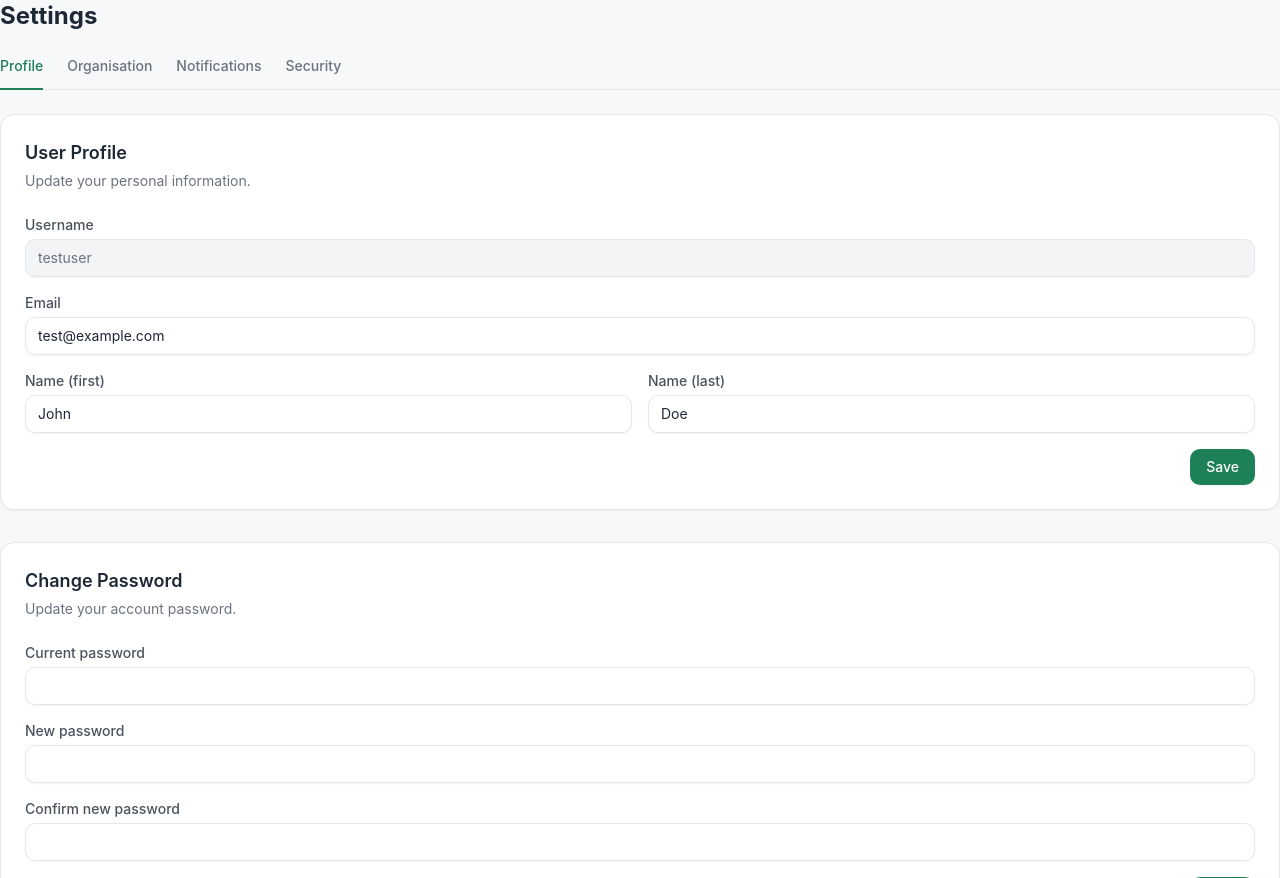
Test: Settings page › switches to Notifications tab
The width and height of the screenshot is (1280, 878).
Expected: the button "Profile" is shown, [0,56,43,90]
Step 1. Click the button "Notifications" → coordinates (219, 73), box [176,56,261,90]
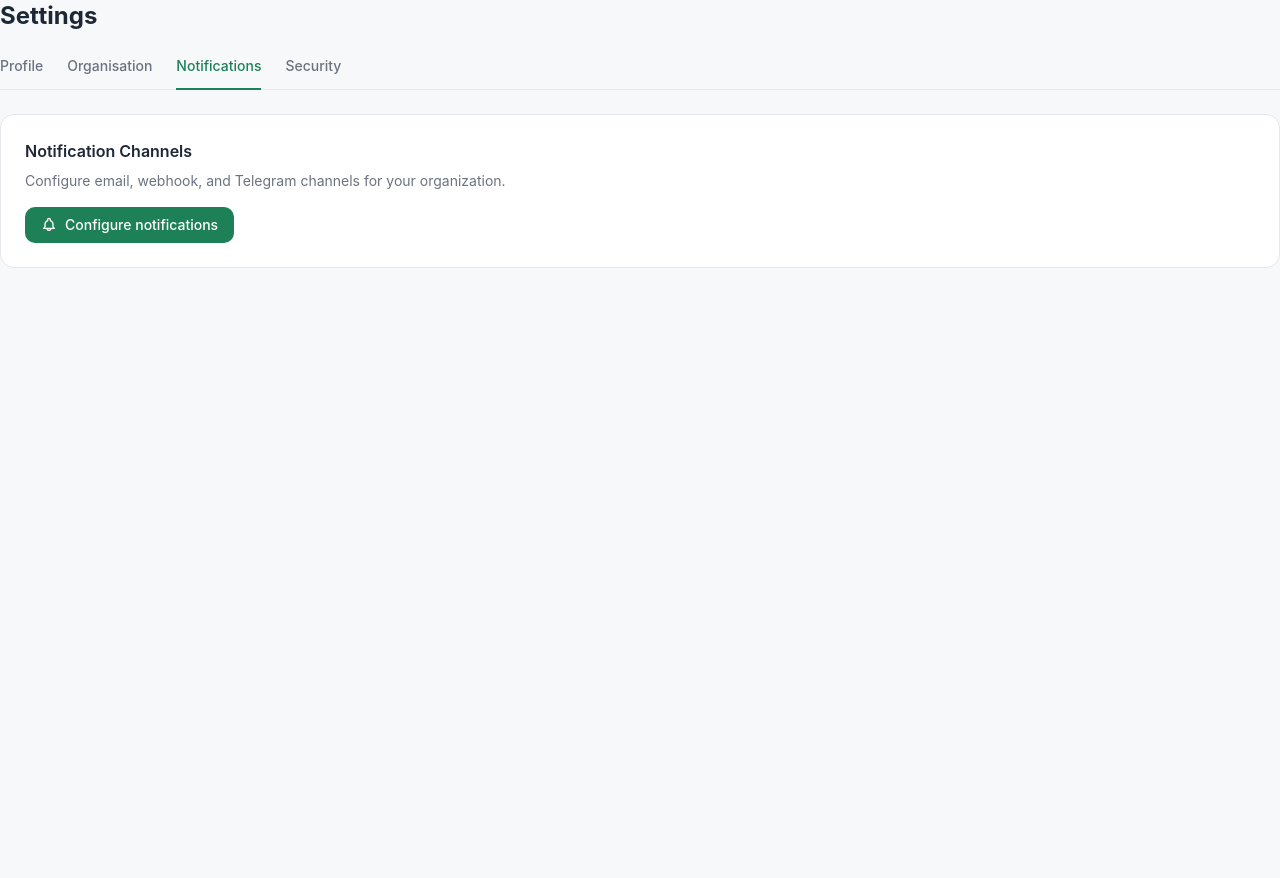
Expected: the heading "Notification Channels" is shown, [25,141,192,161]
